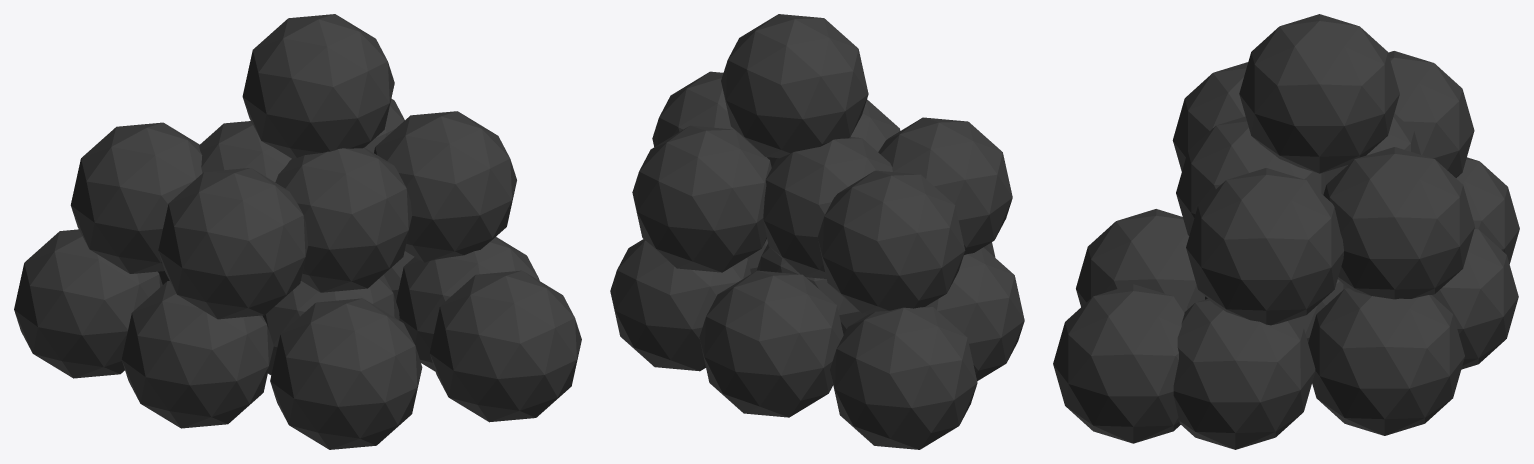
The model's file is cannonballs_pile.glb.
3 views of the same model, side by side, from view 1: azimuth 30°, elevation 25°; view 2: azimuth 150°, elevation 25°; view 3: azimuth 270°, elevation 25° (orthographic). The views are drawn at different scales.
Visible parts, largest first — view 1: cannonballs_pile; view 2: cannonballs_pile; view 3: cannonballs_pile.
Part boxes in pixels (x1,y1,x2,y2): cannonballs_pile: (14,14,581,449); cannonballs_pile: (610,14,1024,449); cannonballs_pile: (1053,14,1519,449).
Bounding box in the file's own units: 1.24 × 1.03 × 1.19.
Materials: 1 (1 with a texture image).
